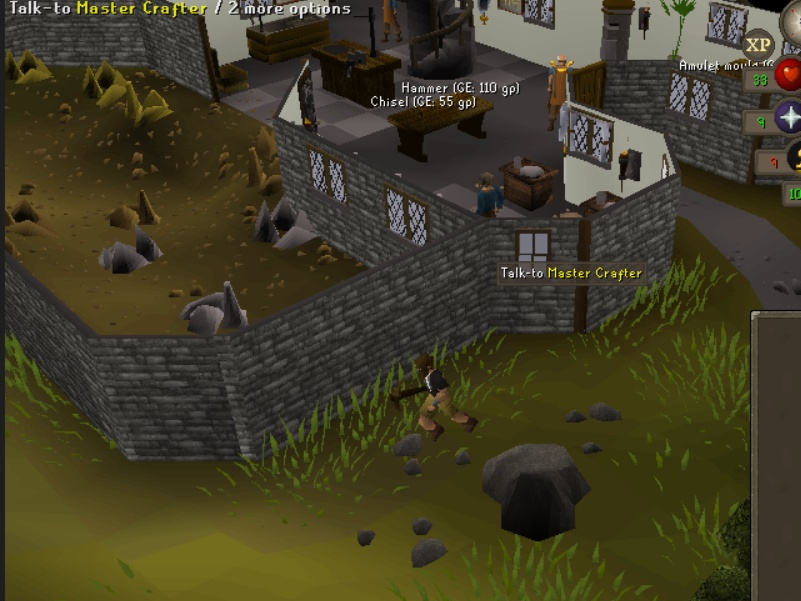clay: (106, 184, 163, 234), (237, 143, 294, 193), (1, 194, 57, 244)
gold: (116, 80, 179, 125), (1, 44, 63, 89), (81, 55, 126, 106)
silver: (252, 195, 326, 251), (93, 223, 167, 279), (182, 281, 256, 337)
